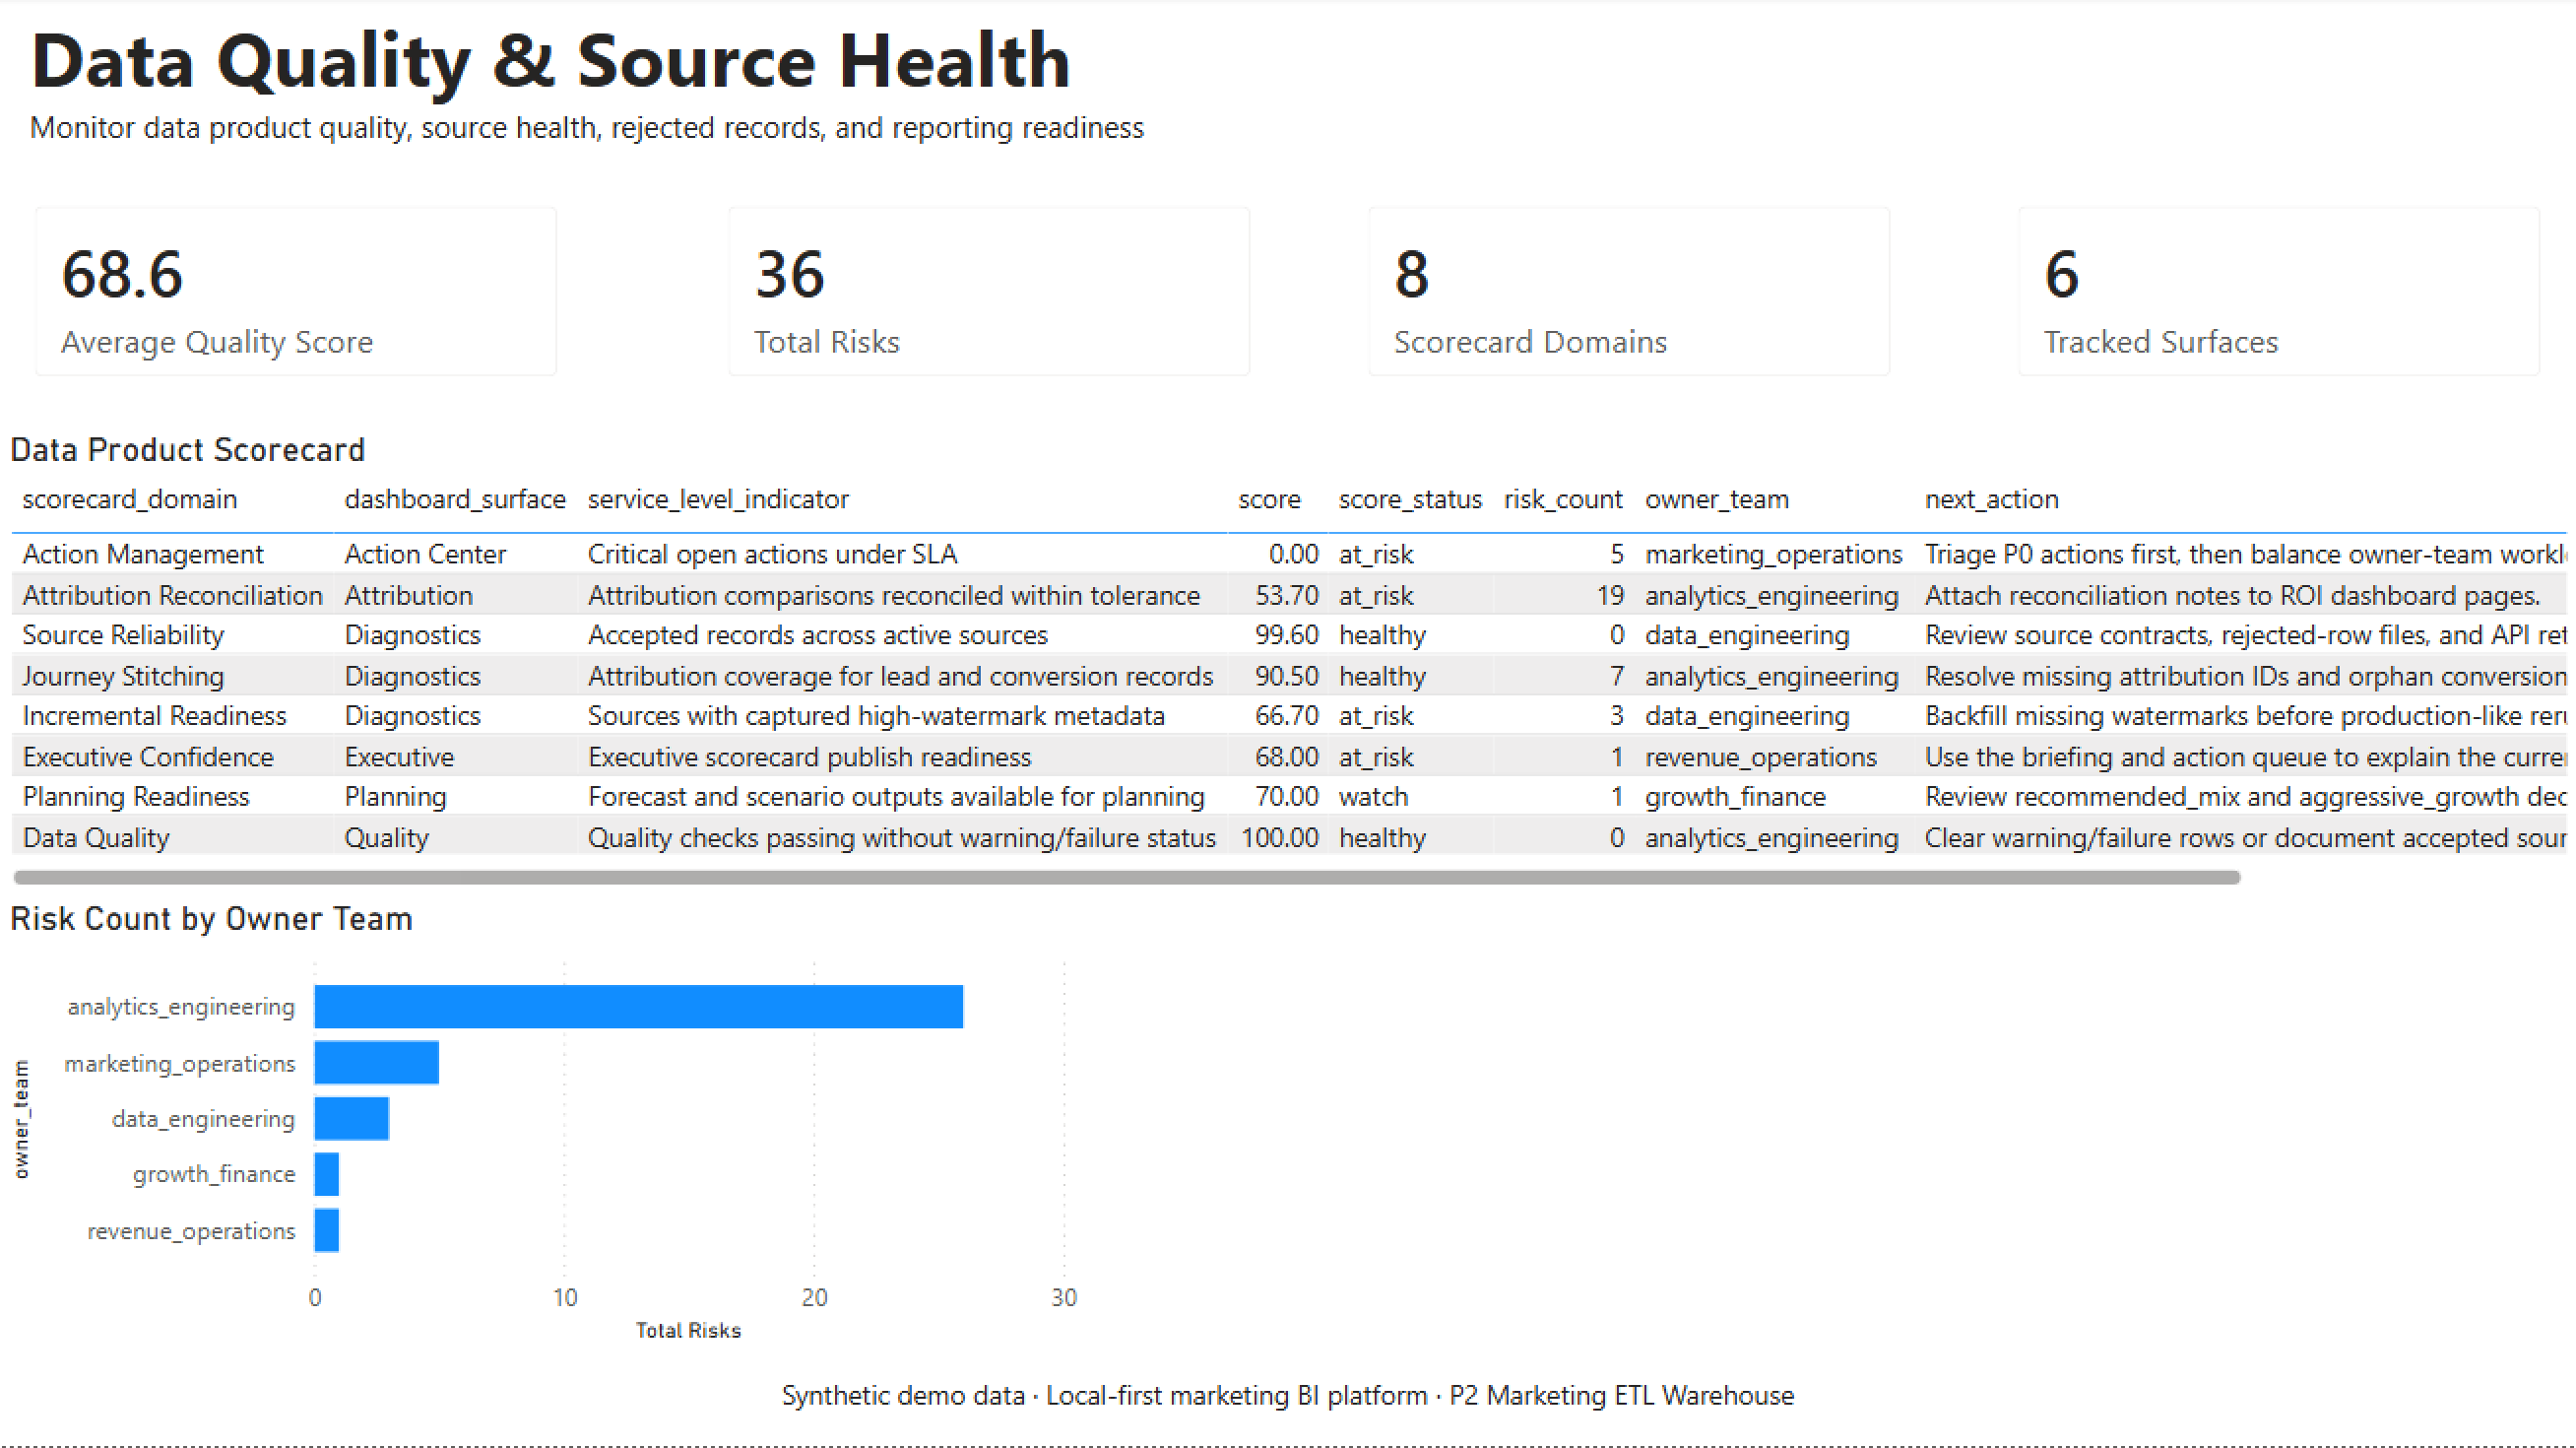

This screenshot's page, from the dashboard's own definition file:
{"tool":"powerbi","page":{"name":"Data Quality & Source Health","canvas":[1280,720],"ordinal":6},"visuals":[{"type":"textbox","box":[10.2,0,1079.6,82.4],"z":0},{"type":"cardVisual","fields":{"Data":["mart_data_product_scorecard.Average Quality Score"]},"box":[0,87.4,294.9,119.2],"z":3000},{"type":"cardVisual","fields":{"Data":["mart_data_product_scorecard.Total Risks"]},"box":[344.6,87.4,294.9,119.2],"z":4000},{"type":"cardVisual","fields":{"Data":["mart_data_product_scorecard.Scorecard Domains"]},"box":[662.3,87.4,294.9,119.2],"z":5000},{"type":"cardVisual","fields":{"Data":["mart_data_product_scorecard.Tracked Surfaces"]},"box":[985.1,87.4,294.9,119.2],"z":6000},{"type":"tableEx","title":"Data Product Scorecard","fields":{"Values":["mart_data_product_scorecard.scorecard_domain","mart_data_product_scorecard.dashboard_surface","mart_data_product_scorecard.service_level_indicator","mart_data_product_scorecard.score","mart_data_product_scorecard.score_status","mart_data_product_scorecard.risk_count","mart_data_product_scorecard.owner_team","mart_data_product_scorecard.next_action"]},"box":[0,215.5,1280,232.4],"z":15000},{"type":"textbox","box":[0,663.3,1279.6,56.7],"z":16000},{"type":"clusteredBarChart","title":"Risk Count by Owner Team","fields":{"Category":["mart_data_product_scorecard.owner_team"],"Y":["mart_data_product_scorecard.Total Risks"]},"box":[0,447.9,540.2,225.4],"z":16001}]}

Visuals, with their boxes in screenshot pixels (x1, y1, x2, y2), scaled from the page's 1280x720 canvas onto the 2576x1448 screenshot:
textbox: x1=21 y1=0 x2=2193 y2=165
cardVisual - mart_data_product_scorecard.Average Quality Score: x1=0 y1=175 x2=594 y2=416
cardVisual - mart_data_product_scorecard.Total Risks: x1=693 y1=175 x2=1287 y2=416
cardVisual - mart_data_product_scorecard.Scorecard Domains: x1=1333 y1=175 x2=1926 y2=416
cardVisual - mart_data_product_scorecard.Tracked Surfaces: x1=1982 y1=175 x2=2575 y2=416
"Data Product Scorecard" tableEx: x1=0 y1=433 x2=2575 y2=900
textbox: x1=0 y1=1334 x2=2575 y2=1447
"Risk Count by Owner Team" clusteredBarChart: x1=0 y1=900 x2=1087 y2=1354
